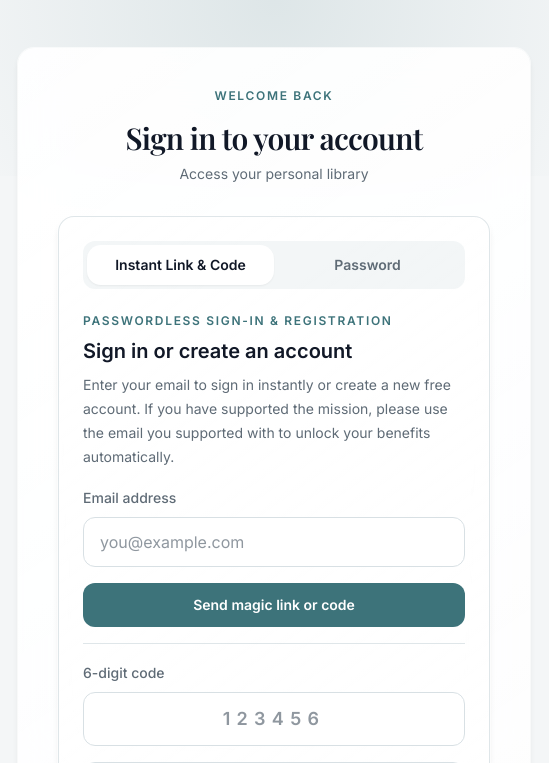
Test case: LoginPage › requests a passwordless sign-in email for the donor email address
Step 1. Type "Reader@example.com" into the field labelled "Email address" → (274, 542), box x1=83 y1=517 x2=465 y2=567
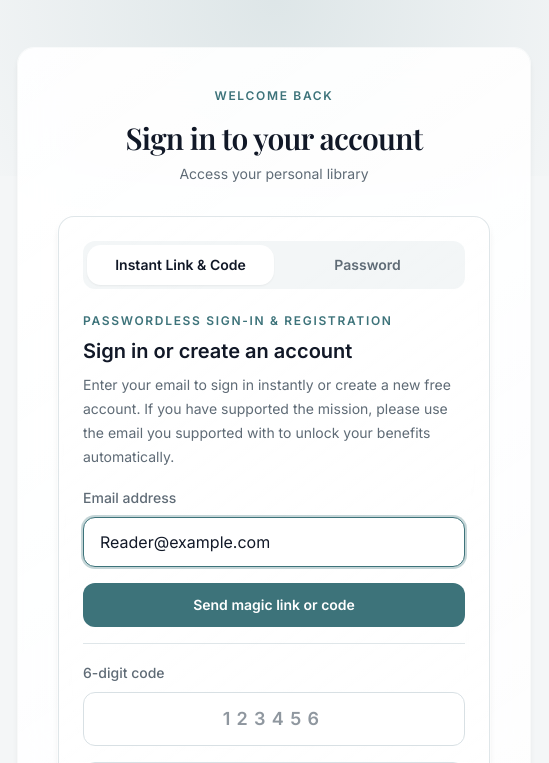
Step 2. Click the button "Send magic link or code" → click(274, 605), box x1=83 y1=583 x2=465 y2=627
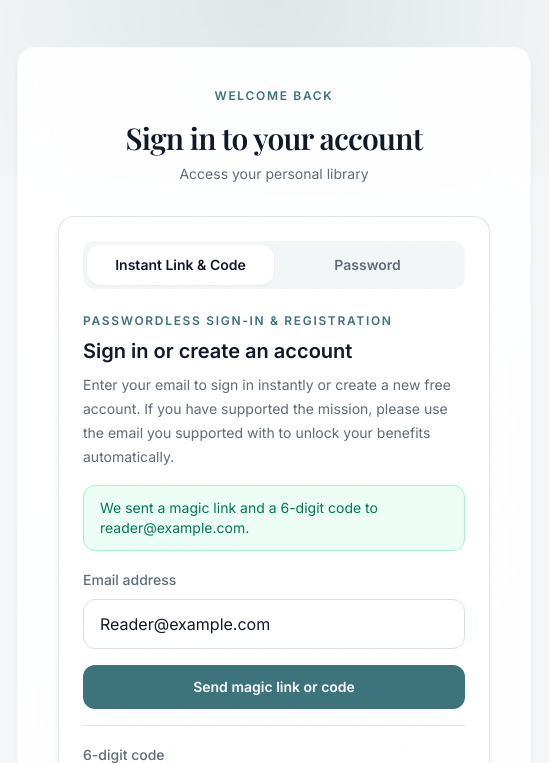
Expected: the text "We sent a magic link and a 6-digit code to reader@example.com" is shown, x1=100 y1=499 x2=378 y2=536
